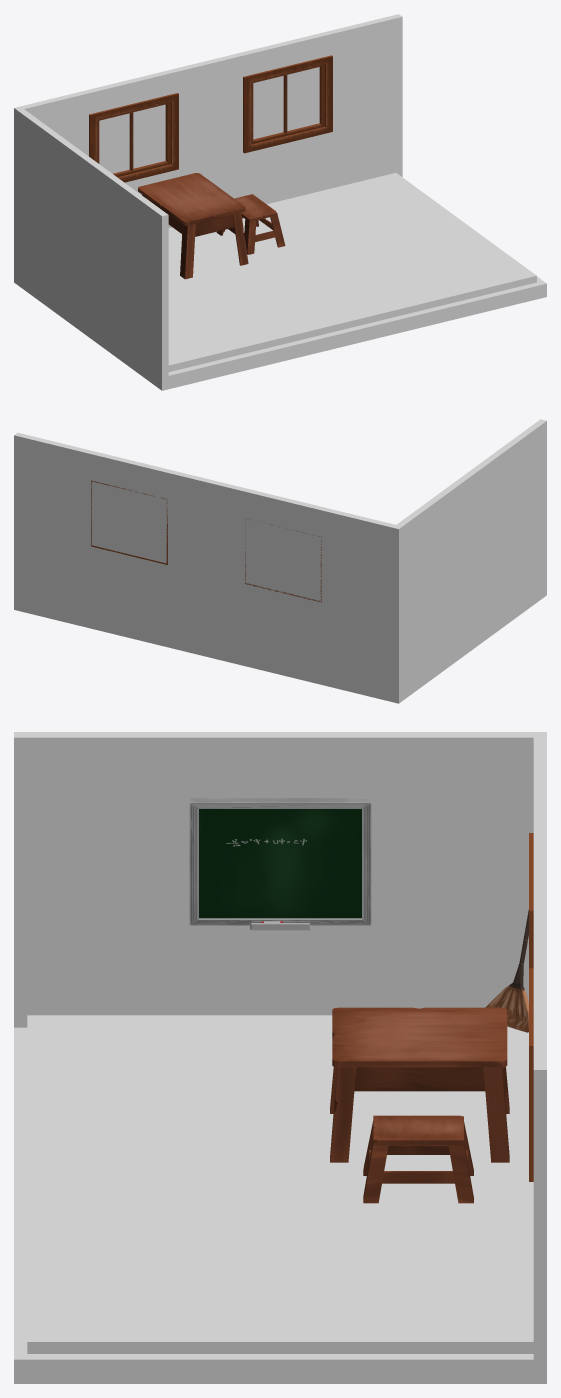
File: Class(1).fbx
3 renders of one model, top to bottom at view 1: azimuth 30°, elevation 25°; view 2: azimuth 150°, elevation 25°; view 3: azimuth 270°, elevation 25°, orthographic. The views are drawn at different scales.
Visible parts, largest first — view 1: 墙, 地面, 地基, 桌子, 光2, 窗户.001, 光, 窗户; view 2: 墙, 地基, 光, 光2, 窗户.001; view 3: 地面, 墙, 桌子, 黑板, 地基, 扫帚, 窗户.001.
Part boxes in pixels (box(x1,y1,x2,y2)): 墙: box(14, 14, 402, 377); 地面: box(168, 173, 536, 371); 地基: box(14, 269, 546, 390); 桌子: box(138, 173, 285, 279); 光2: box(253, 67, 319, 139); 窗户.001: box(243, 55, 332, 153); 光: box(99, 104, 165, 173); 窗户: box(89, 93, 178, 182); 墙: box(14, 419, 546, 690); 地基: box(14, 582, 546, 703); 光: box(245, 518, 325, 604); 光2: box(91, 481, 167, 567); 窗户.001: box(91, 480, 167, 564); 地面: box(27, 1015, 533, 1353); 墙: box(14, 732, 546, 1359); 桌子: box(330, 1007, 509, 1203); 黑板: box(189, 798, 371, 930); 地基: box(14, 1027, 546, 1383); 扫帚: box(485, 909, 528, 1032); 窗户.001: box(529, 968, 533, 1181).
Bounding box in the file's own units: 600 × 260 × 400.
Materials: 7 (4 with a texture image).
